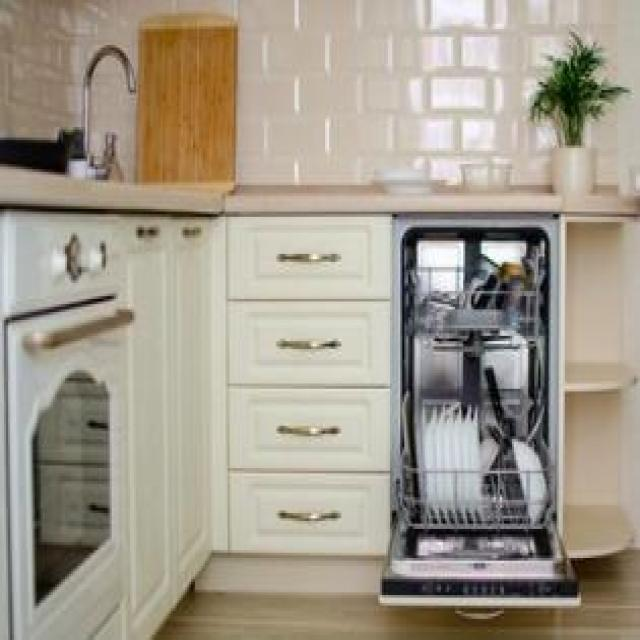dishwasher: (376, 214, 579, 606)
